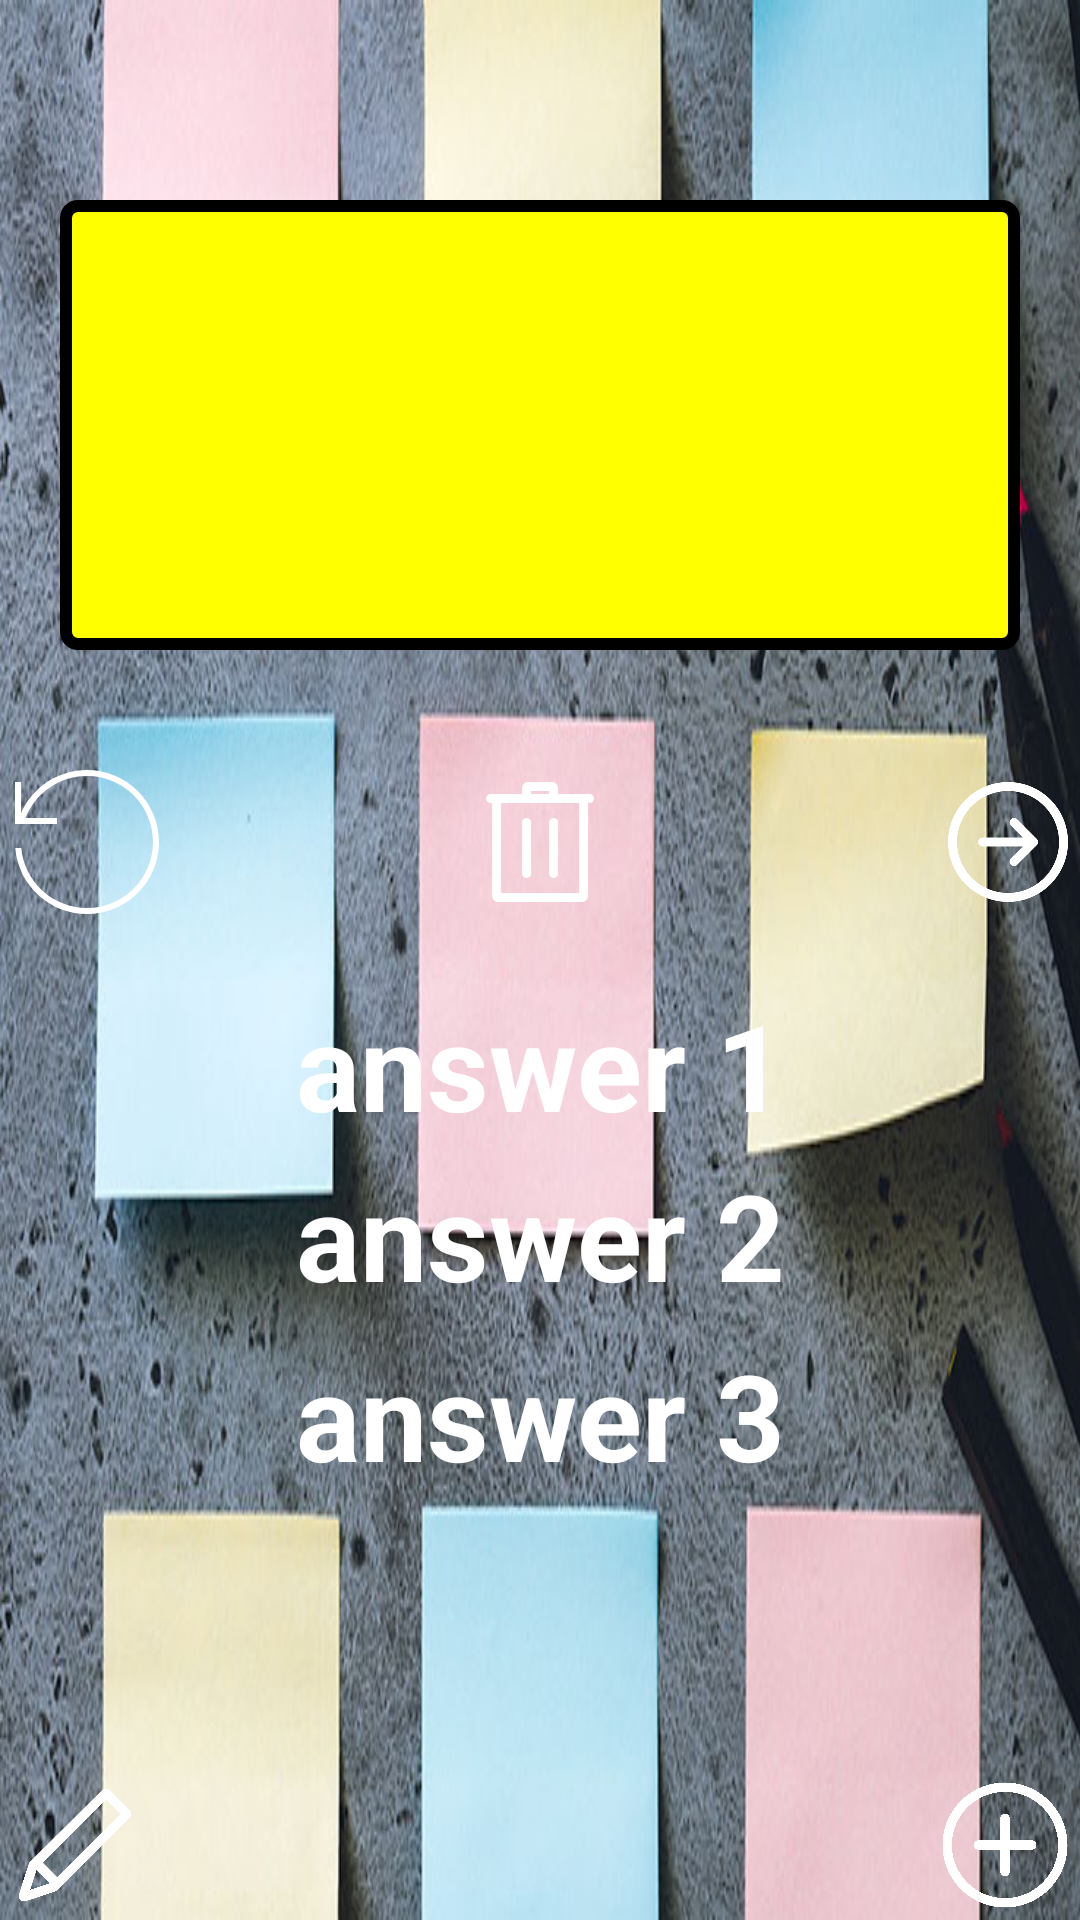

Icons on this 1080x1920 Android screen, each with the point to tap as point (x, y):
add card: point (1011, 1845)
delete card: point (540, 842)
edit card: point (65, 1845)
go to next card: point (1008, 842)
Restart: point (87, 842)
